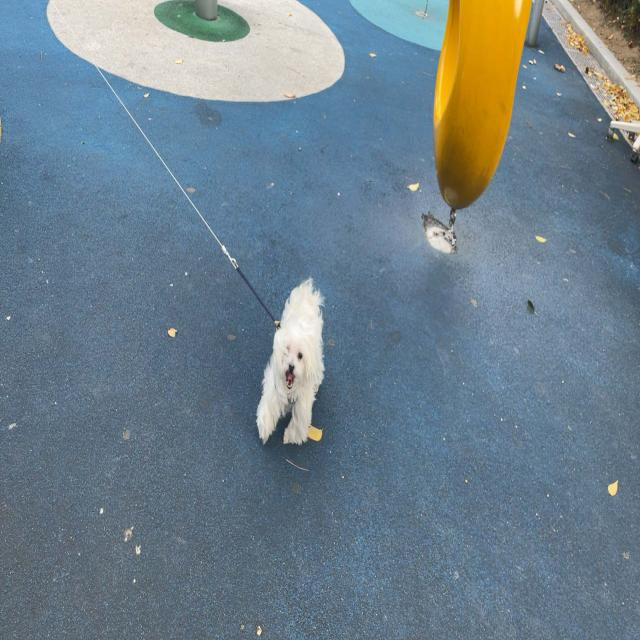Dog: (258, 281, 324, 444)
